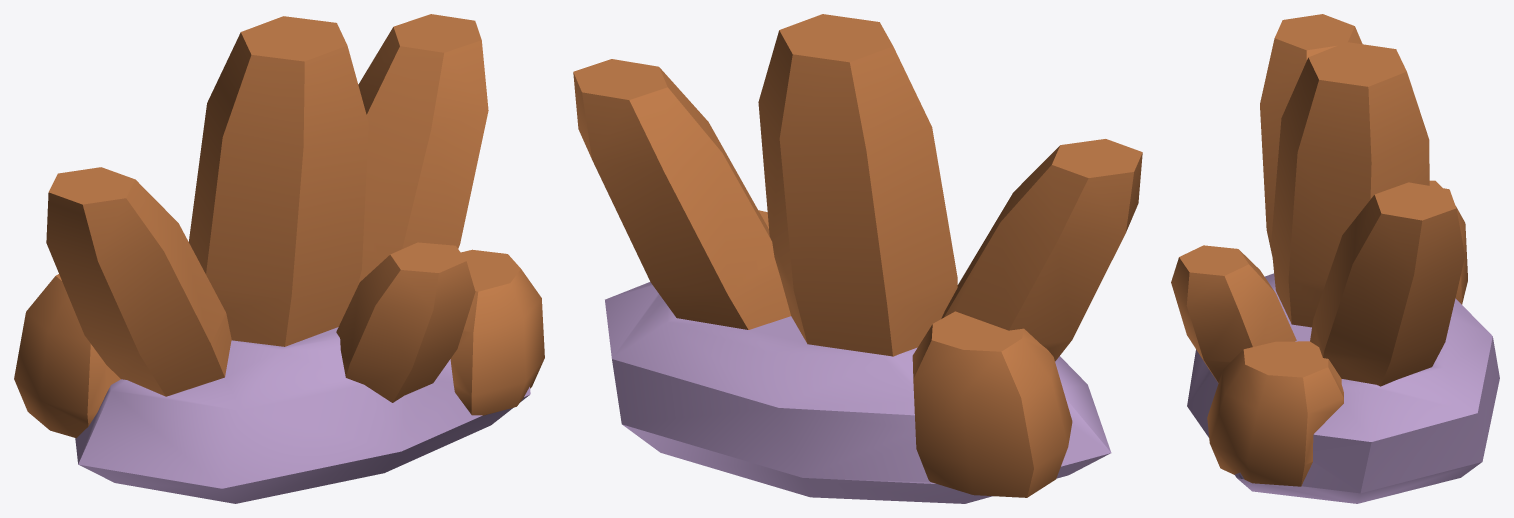
Rendered from crystal-coral-cluster.glb.
3 renders of one model, left to right at view 1: azimuth 30°, elevation 25°; view 2: azimuth 150°, elevation 25°; view 3: azimuth 270°, elevation 25°, orthographic. The views are drawn at different scales.
Visible parts, largest first — view 1: crystal-coral-cluster; view 2: crystal-coral-cluster; view 3: crystal-coral-cluster.
Boxes of the visible parts, x1,y1,x2,y2 form: crystal-coral-cluster: (14, 14, 544, 503); crystal-coral-cluster: (573, 14, 1142, 503); crystal-coral-cluster: (1171, 14, 1499, 503).
Bounding box in the file's own units: 2.45 × 1.86 × 1.53.
Materials: 1 (1 with a texture image).
